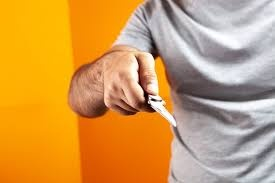knife: (148, 93, 177, 128)
